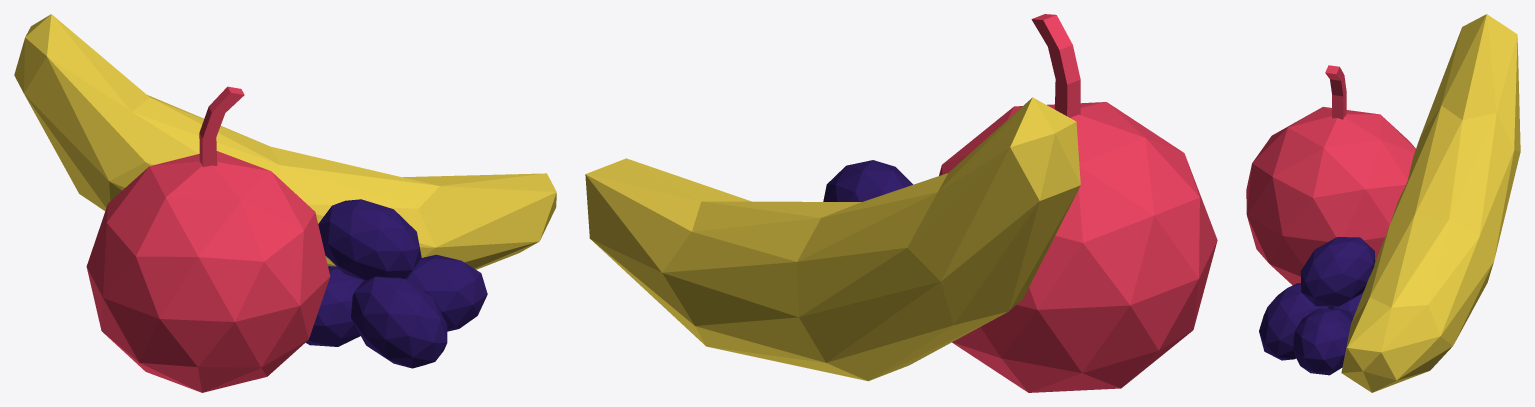
Rendered from CryogenicFruits.fbx.
3 renders of one model, left to right at view 1: azimuth 30°, elevation 25°; view 2: azimuth 150°, elevation 25°; view 3: azimuth 270°, elevation 25°, orthographic. The views are drawn at different scales.
Parts seen in each view (by area): view 1: CryogenicFruits; view 2: CryogenicFruits; view 3: CryogenicFruits.
Part boxes in pixels (bbox=[...]): CryogenicFruits: bbox=[14, 14, 556, 392]; CryogenicFruits: bbox=[585, 14, 1217, 392]; CryogenicFruits: bbox=[1246, 14, 1520, 392].
Size of the model in its own units: 44.71 by 28.34 by 28.73.
